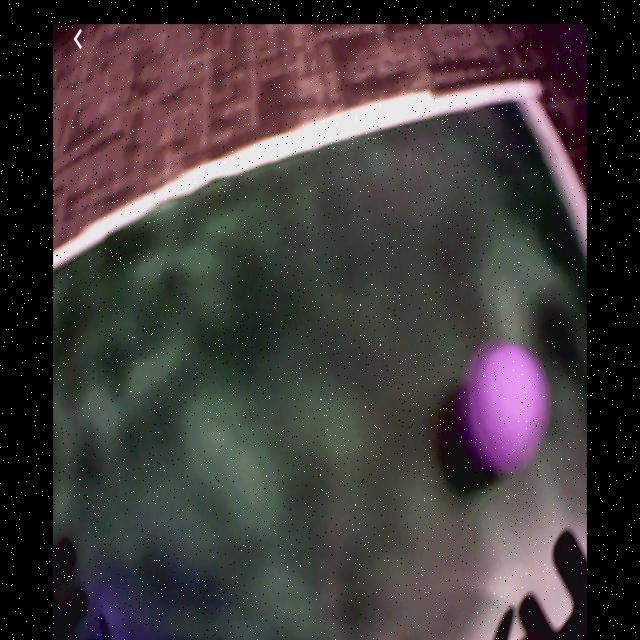ball: (461, 346, 549, 474)
